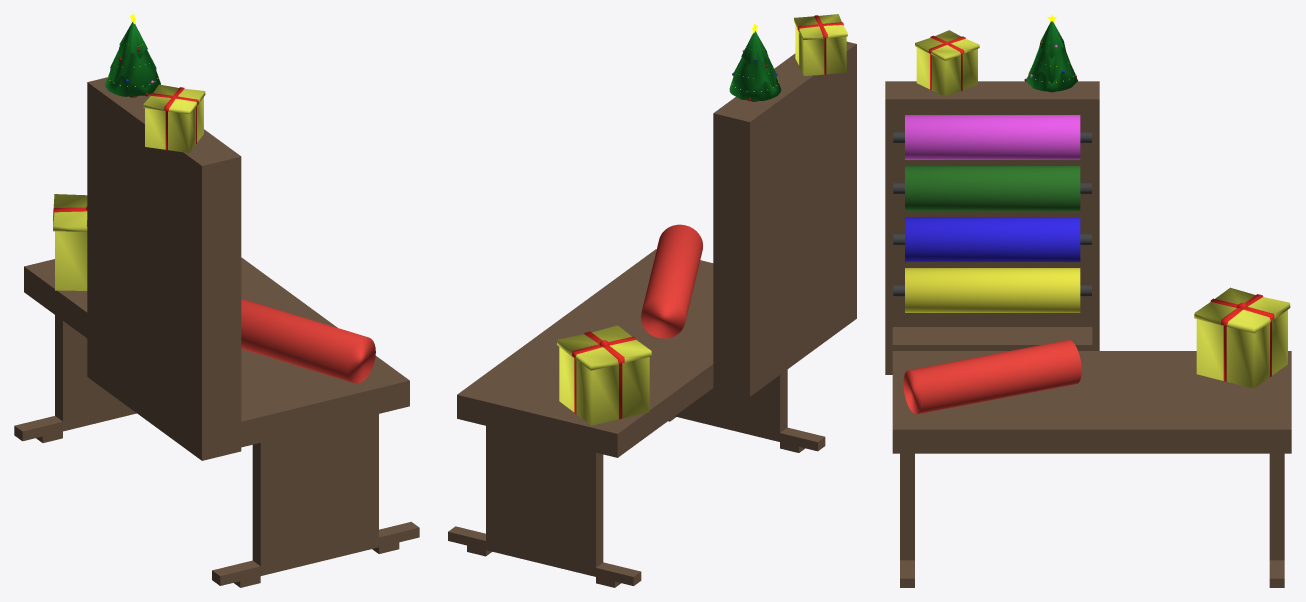
Rendered from GiftStation.fbx.
3 renders of one model, left to right at view 1: azimuth 30°, elevation 25°; view 2: azimuth 150°, elevation 25°; view 3: azimuth 270°, elevation 25°, orthographic. The views are drawn at different scales.
Parts seen in each view (by area): view 1: Cube, Cylinder.003, Cube.002, Cube.001, TreeTop; view 2: Cube, Cube.001, Cylinder.003, Cube.002, TreeTop; view 3: Cube, Cylinder.002, Cylinder.003, Cube.001, Cube.002, TreeTop, Cylinder.
Boxes of the visible parts, <box> form: Cube: <box>14,77,419,587</box>; Cylinder.003: <box>241,298,375,383</box>; Cube.002: <box>143,84,205,152</box>; Cube.001: <box>53,194,87,290</box>; TreeTop: <box>105,21,160,96</box>; Cube: <box>448,41,856,587</box>; Cube.001: <box>557,325,651,425</box>; Cylinder.003: <box>641,224,702,338</box>; Cube.002: <box>794,14,847,75</box>; TreeTop: <box>729,31,781,100</box>; Cube: <box>885,81,1291,587</box>; Cylinder.002: <box>905,115,1080,312</box>; Cylinder.003: <box>903,340,1081,414</box>; Cube.001: <box>1194,287,1290,388</box>; Cube.002: <box>915,30,979,96</box>; TreeTop: <box>1026,21,1077,91</box>; Cylinder: <box>893,131,1091,296</box>.
Bounding box in the file's own units: 101 × 202 × 153.
